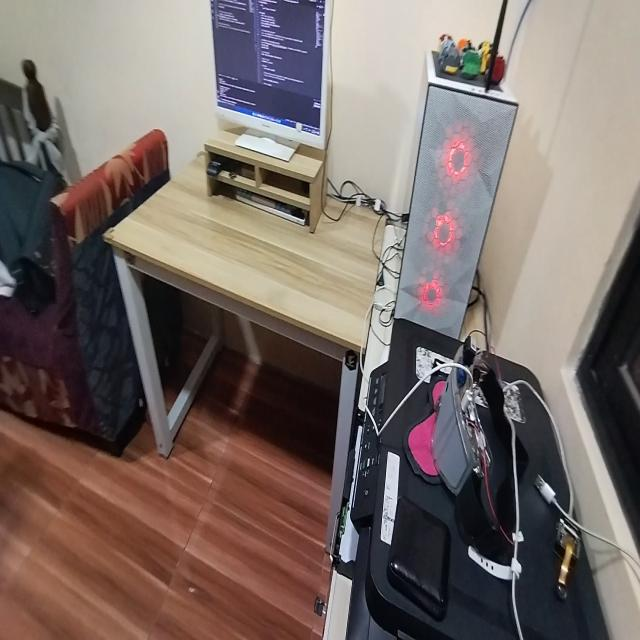table: (109, 147, 378, 526)
